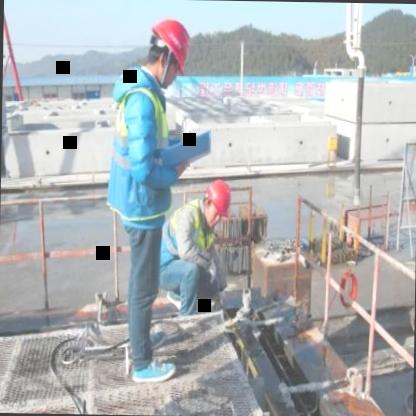helmet: (143, 13, 194, 87), (198, 176, 232, 224)
